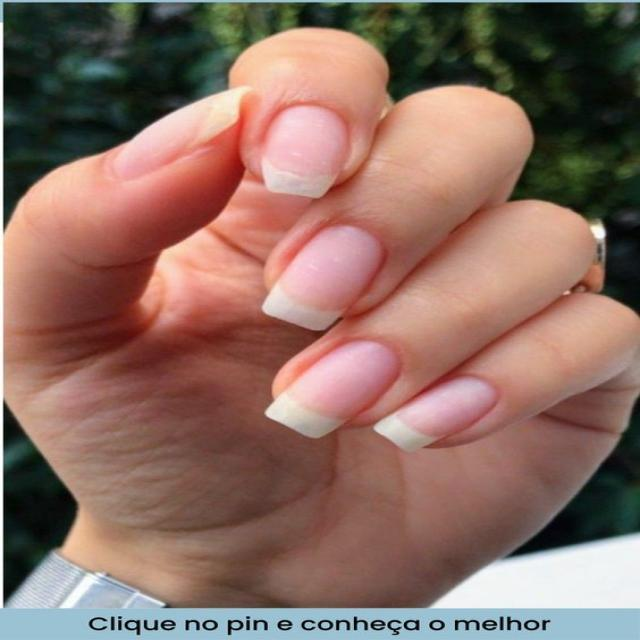Fingernail: (266, 340, 398, 438), (113, 88, 252, 180), (262, 225, 382, 331), (374, 376, 497, 451), (261, 105, 348, 198)
